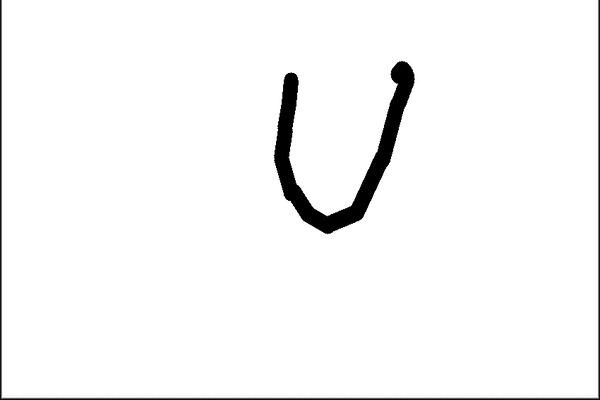U: (273, 55, 422, 237)
